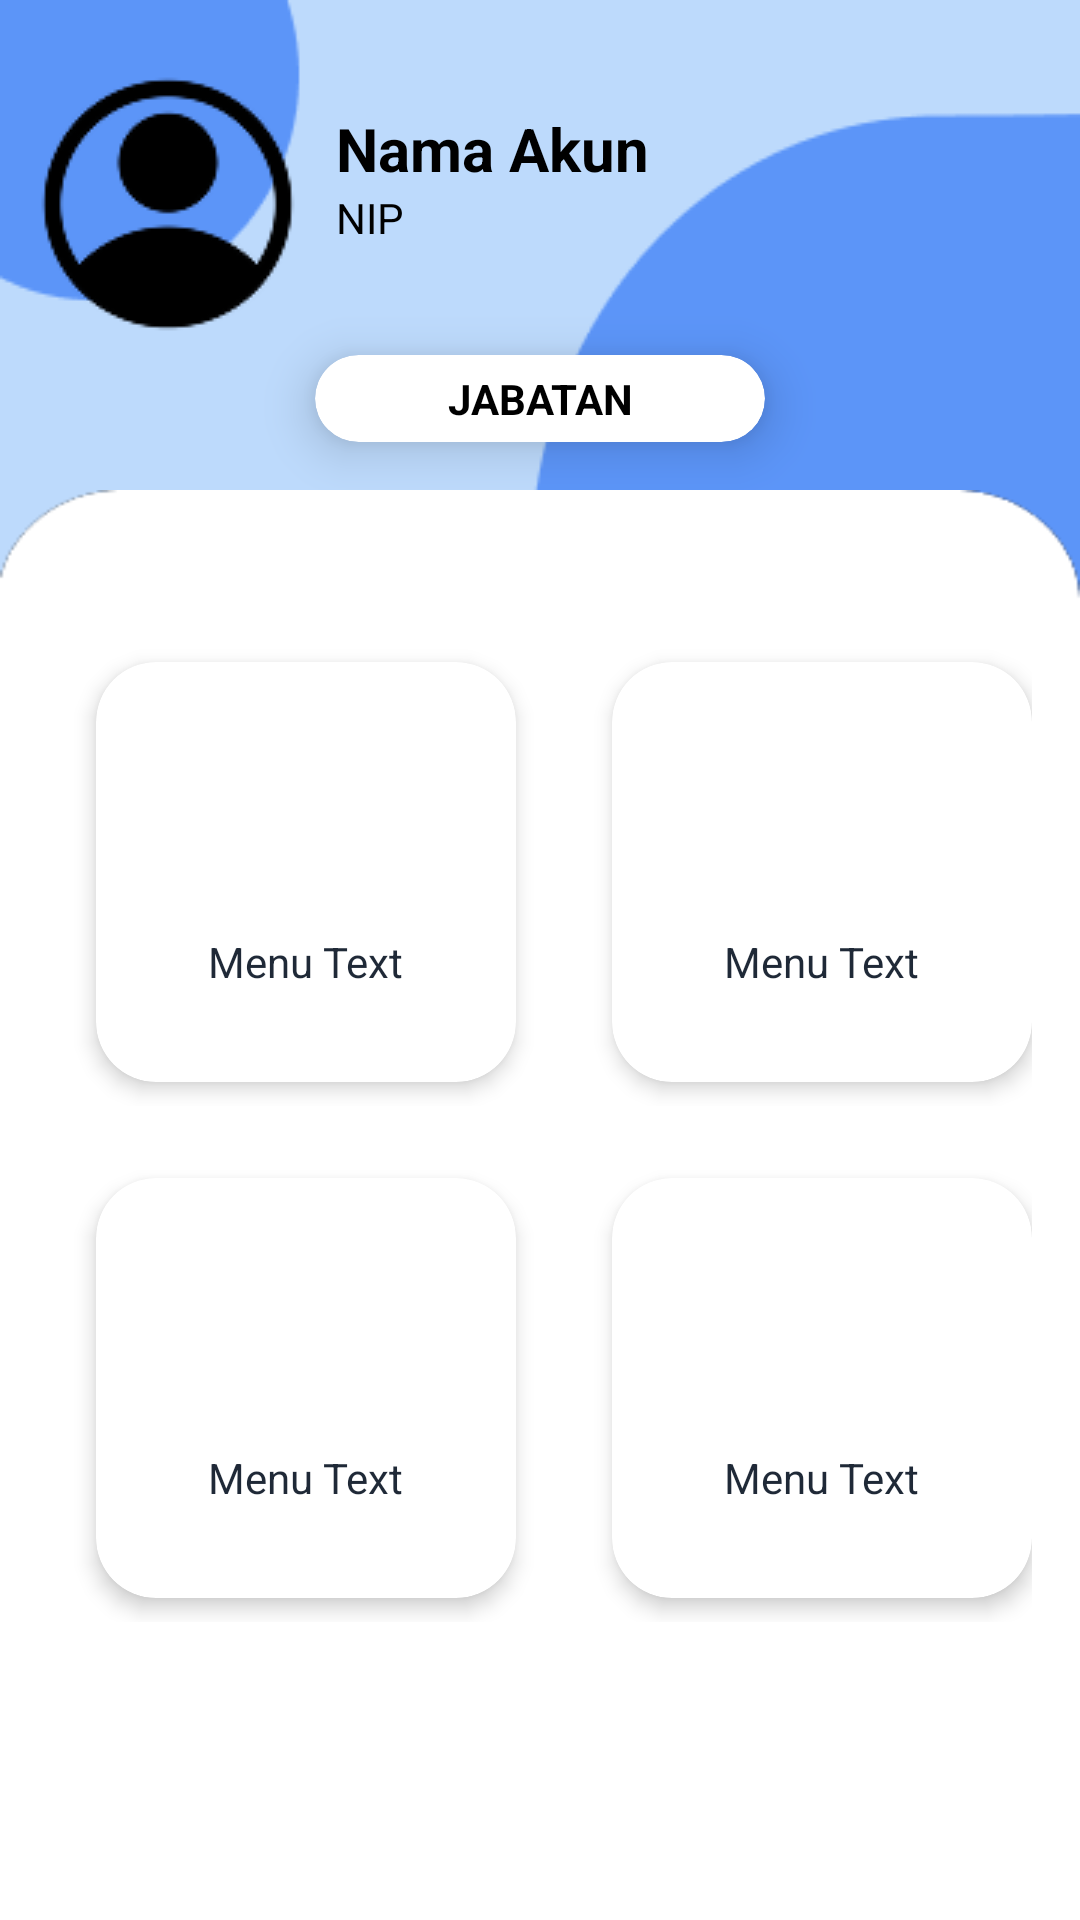

Screen size 1080px x 1920px. Icon name, then its center in pixels as (x=x, y=y):
account: (x=168, y=204)
